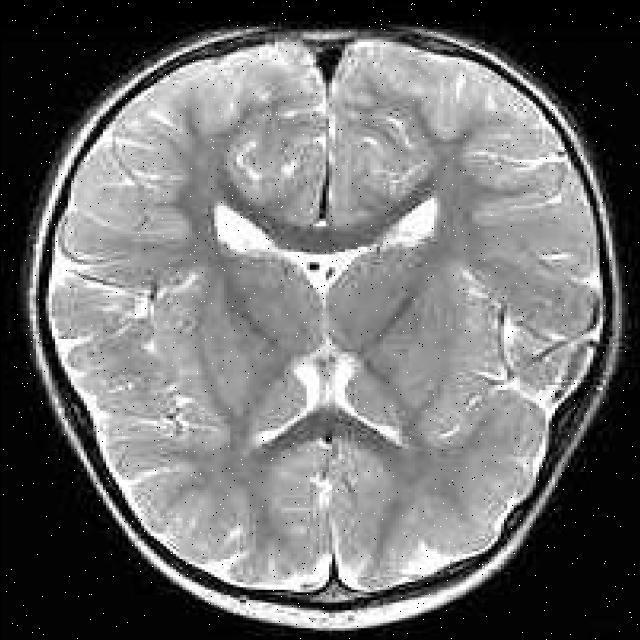No_Tumor: (27, 27, 621, 629)
